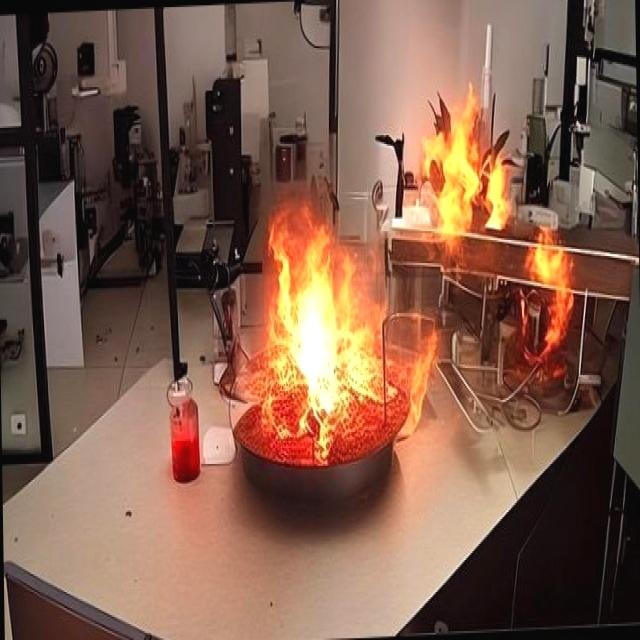fire: (220, 162, 410, 468), (408, 76, 598, 342)
